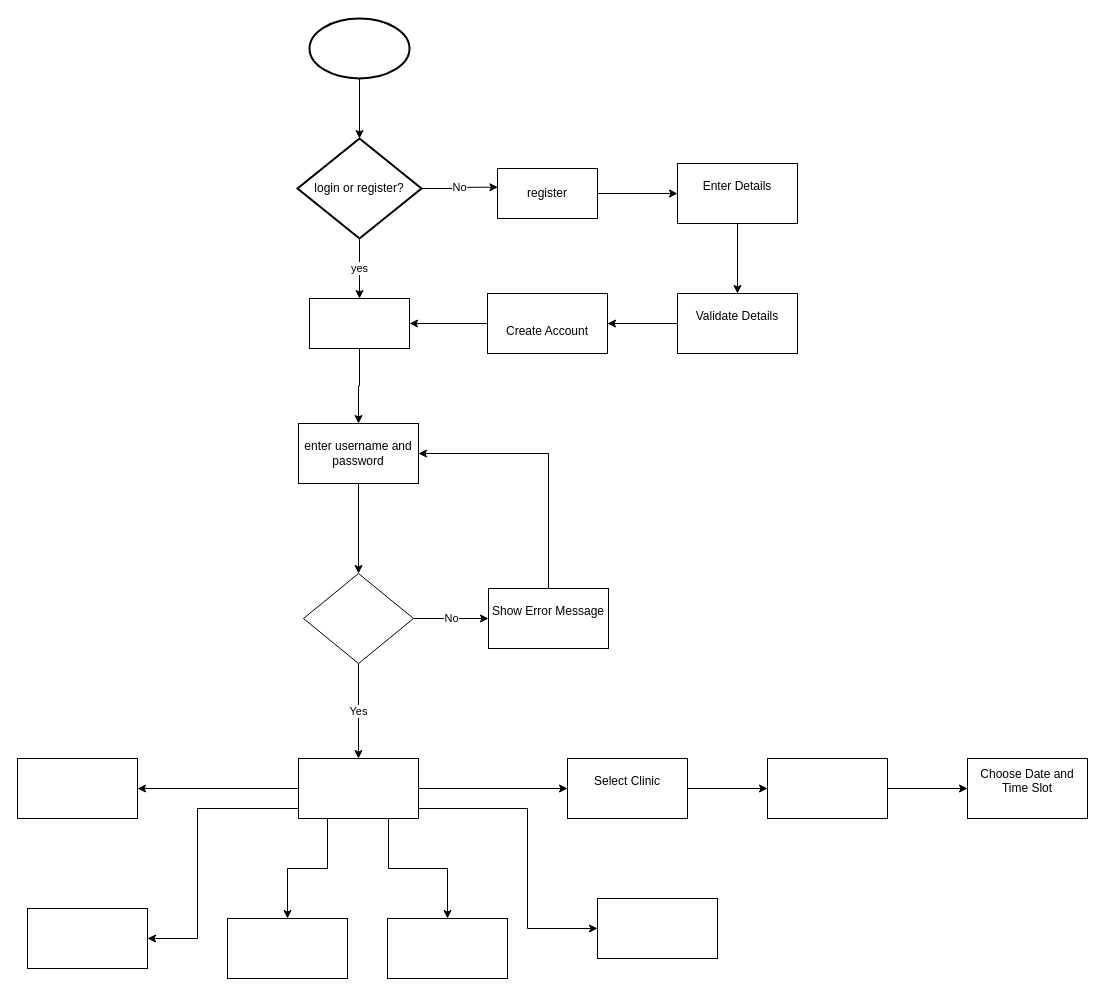
Some shapes in this 1105 by 996 pixel diagram are drawn without their labels. Each missing label, with the centre of its shape:
"choose service" belongs at point (827, 788).
"Credentials Valid?" belongs at point (358, 618).
"login" belongs at point (359, 323).
"main menu" belongs at point (358, 788).
"start" belongs at point (359, 48).
